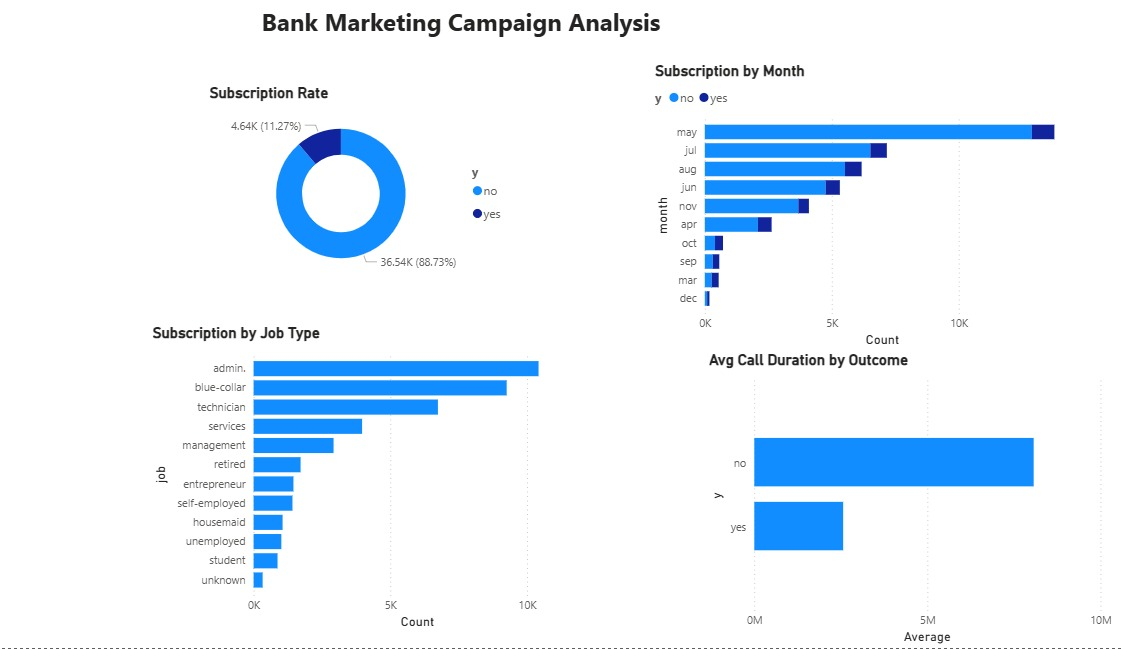

This screenshot's page, from the dashboard's own definition file:
{"tool":"powerbi","page":{"name":"Page 1","canvas":[1280,720],"ordinal":0},"visuals":[{"type":"donutChart","title":"Subscription Rate","fields":{"Category":["bank_marketing_cleaned.y"],"Y":["CountNonNull(bank_marketing_cleaned.y)"]},"box":[236.7,93.3,343.3,223.3],"z":0},{"type":"barChart","title":"Subscription by Job Type","fields":{"Category":["bank_marketing_cleaned.job"],"Y":["CountNonNull(bank_marketing_cleaned.y)"]},"box":[173.3,360,496.7,343.3],"z":1},{"type":"barChart","title":"Subscription by Month","fields":{"Category":["bank_marketing_cleaned.month"],"Y":["CountNonNull(bank_marketing_cleaned.y)"],"Series":["bank_marketing_cleaned.y"]},"box":[731.7,68.3,470,321.7],"z":2},{"type":"clusteredBarChart","title":"Avg Call Duration by Outcome","fields":{"Category":["bank_marketing_cleaned.y"],"Y":["Sum(bank_marketing_cleaned.duration)"]},"box":[791.7,390,456.7,330],"z":3},{"type":"textbox","box":[15,0,740,55],"z":4}]}

Visuals, with their boxes in screenshot pixels (x1, y1, x2, y2), scaled from the page's 1280x720 canvas onto the 1122x649 screenshot:
"Subscription Rate" donutChart: {"left": 207, "top": 84, "right": 508, "bottom": 285}
"Subscription by Job Type" barChart: {"left": 152, "top": 324, "right": 587, "bottom": 634}
"Subscription by Month" barChart: {"left": 641, "top": 62, "right": 1053, "bottom": 352}
"Avg Call Duration by Outcome" clusteredBarChart: {"left": 694, "top": 352, "right": 1094, "bottom": 648}
textbox: {"left": 13, "top": 0, "right": 662, "bottom": 50}
